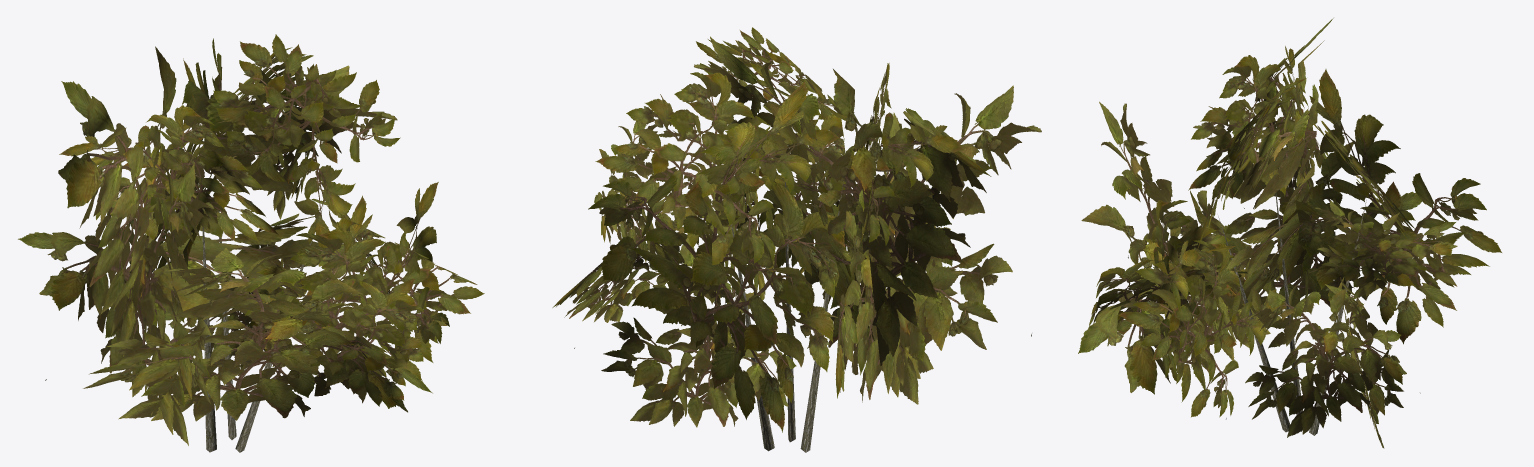
Rendered from Vegetation_Shruds04_lod2.glb.
3 views of the same model, side by side, from view 1: azimuth 30°, elevation 25°; view 2: azimuth 150°, elevation 25°; view 3: azimuth 270°, elevation 25° (orthographic). The views are drawn at different scales.
Parts seen in each view (by area): view 1: zw_shruds_04_lod2; view 2: zw_shruds_04_lod2; view 3: zw_shruds_04_lod2.
Part boxes in pixels (x1,y1,x2,y2): zw_shruds_04_lod2: (18,34,484,452); zw_shruds_04_lod2: (552,27,1041,452); zw_shruds_04_lod2: (1078,18,1501,448).
Size of the model in its own units: 2.32 by 2.29 by 2.43.
1 material, 1 textured.
